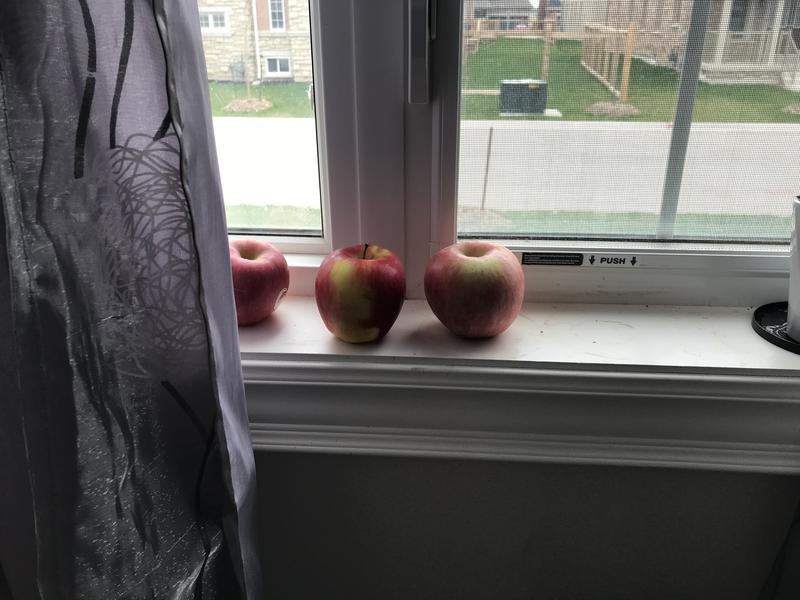red_apple: (422, 233, 531, 354), (312, 235, 410, 359), (206, 230, 296, 342)
